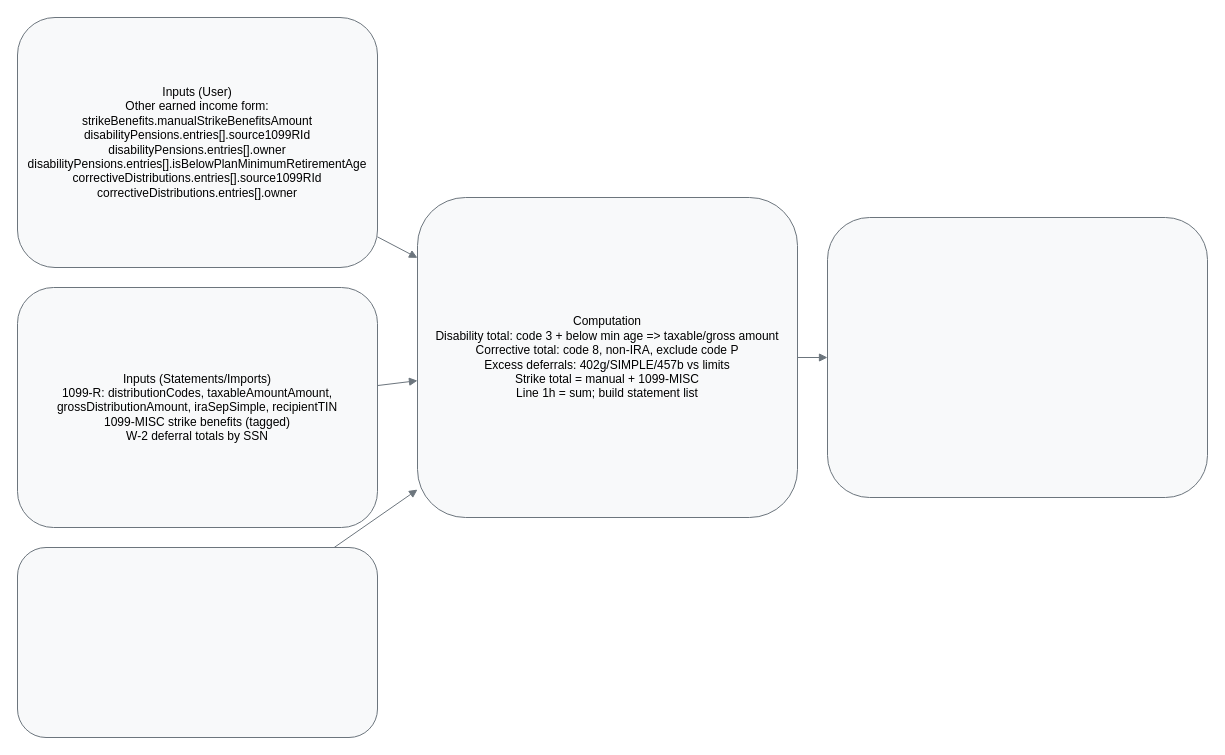
Image size: 1225x755. Some labels were removed from this diagram. The centre of each missing label's shape, as x and y in pixels:
Outputs Form 1040 line 1h Line 1h statements: point 1017,357
Reference/Derived Inputs Deferral limits + catch-up thresholds: point 197,642
